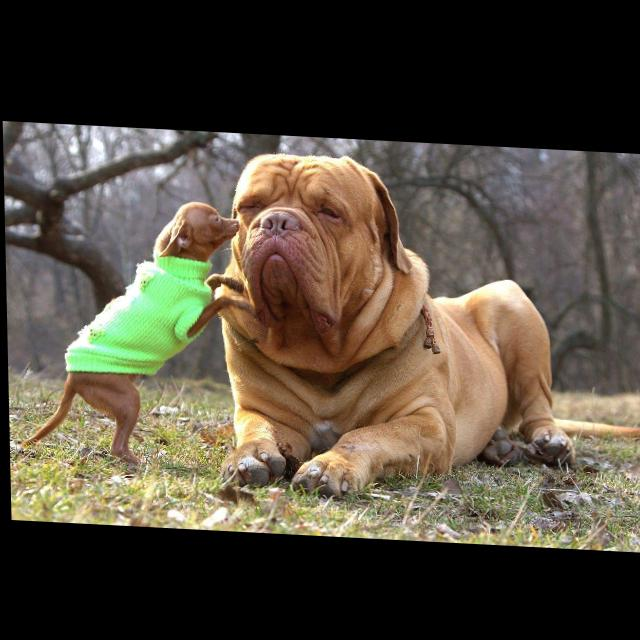dogue_de_bordeaux: (185, 144, 640, 511)
other_dog_breed: (14, 190, 248, 470)
